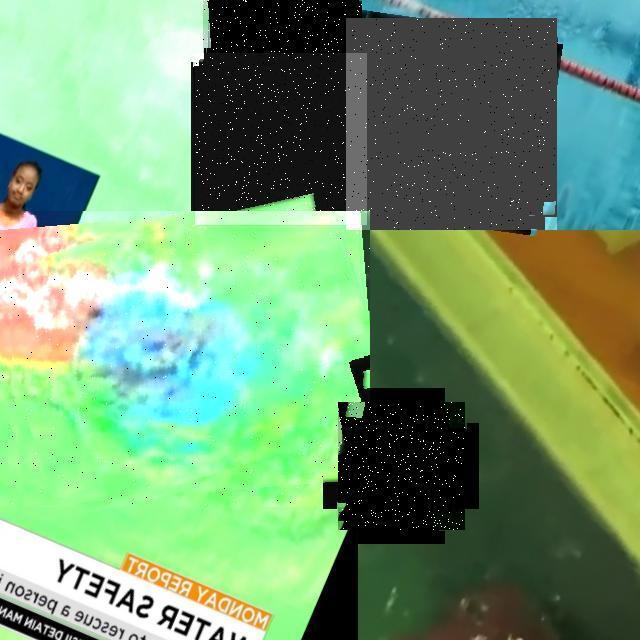3: (203, 0, 362, 162), (338, 402, 465, 530)
6: (0, 211, 370, 507), (346, 18, 557, 230)
drowning: (195, 53, 367, 225)
